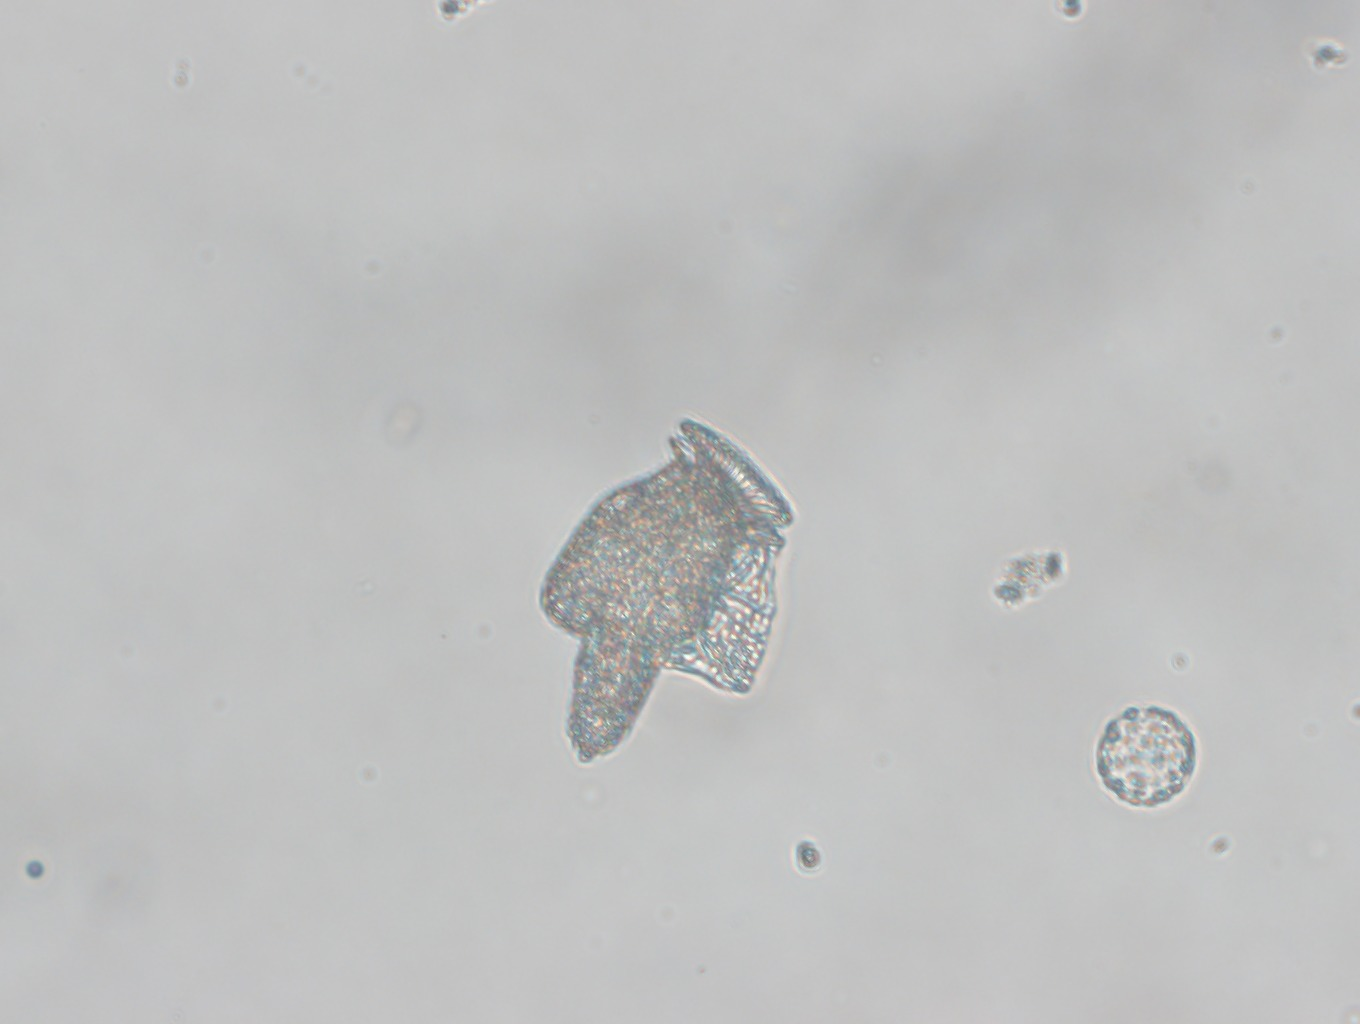coscinodiscus: (1096, 703, 1196, 809)
dinophysis caudata: (532, 417, 800, 764)
